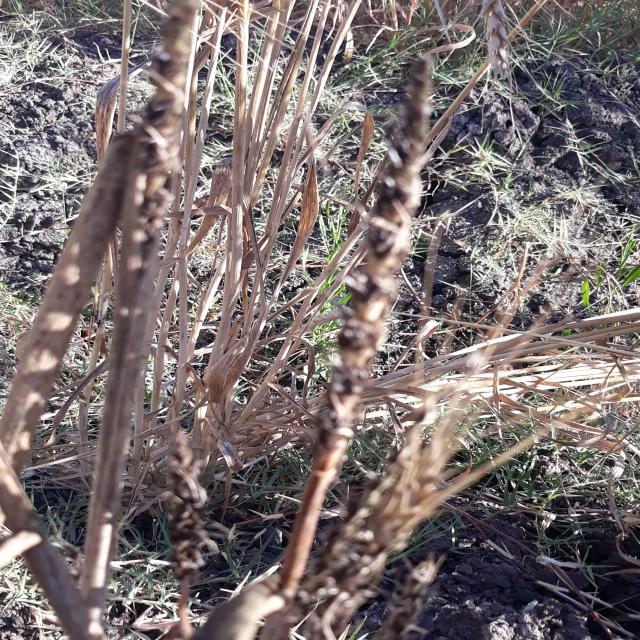loose_charred: (0, 8, 205, 443), (290, 42, 450, 473), (300, 383, 533, 598), (144, 439, 236, 629), (351, 559, 475, 640)
